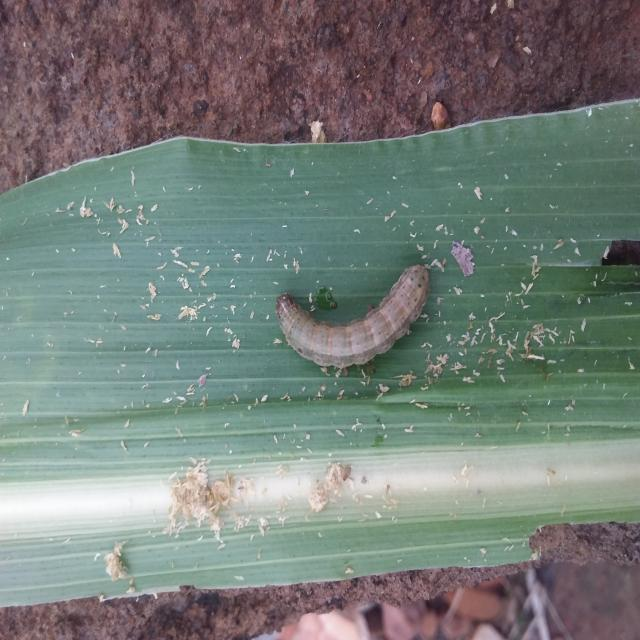yellow-stem-borer-larva: (260, 241, 465, 395)
